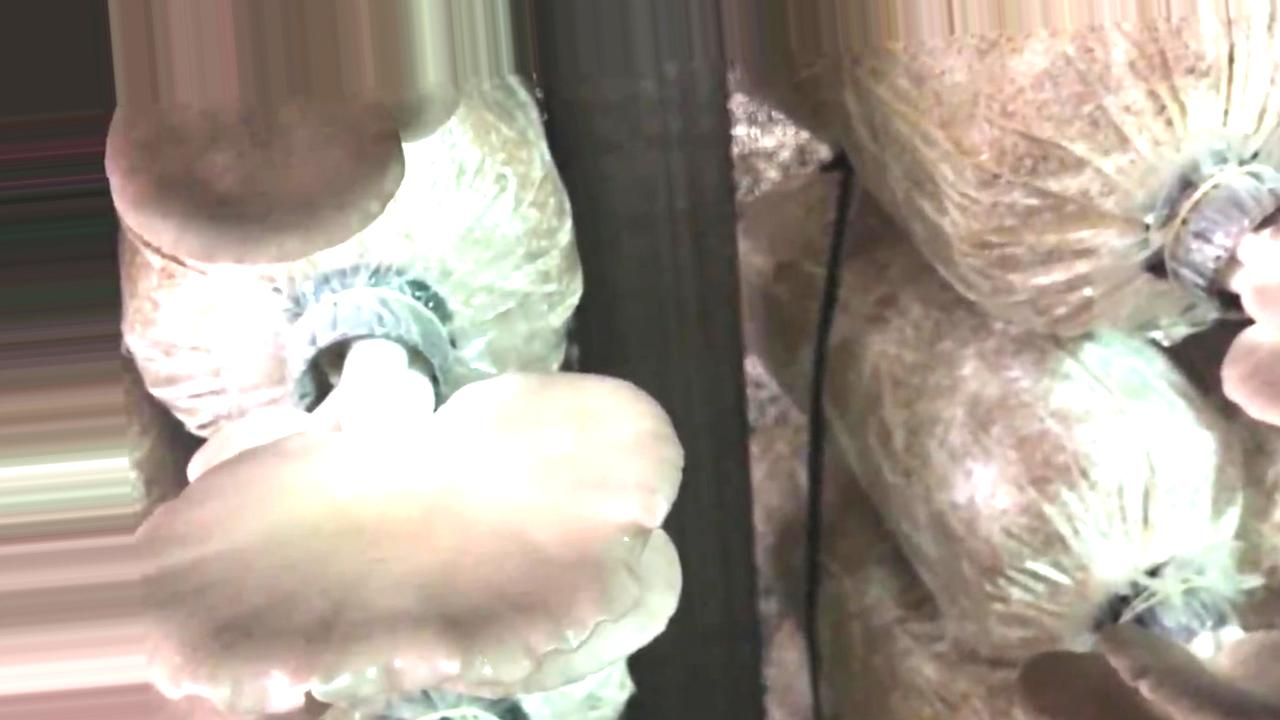nam: (142, 275, 686, 710), (103, 105, 407, 270), (1178, 164, 1280, 426)
